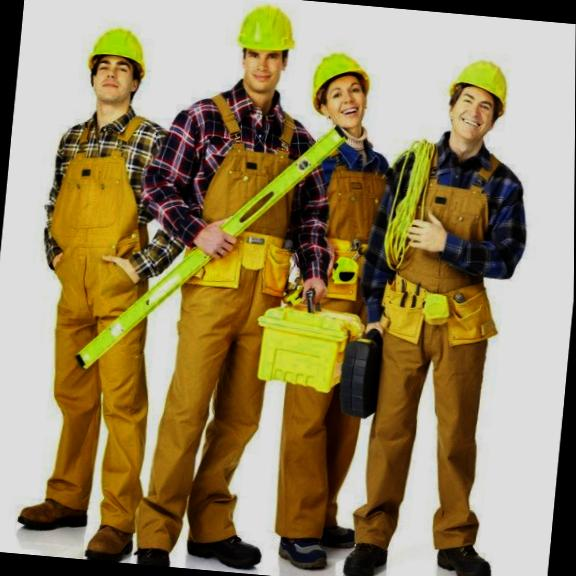no_safety_vest: (135, 79, 345, 299), (359, 135, 537, 350), (38, 101, 189, 275), (300, 126, 398, 320)
